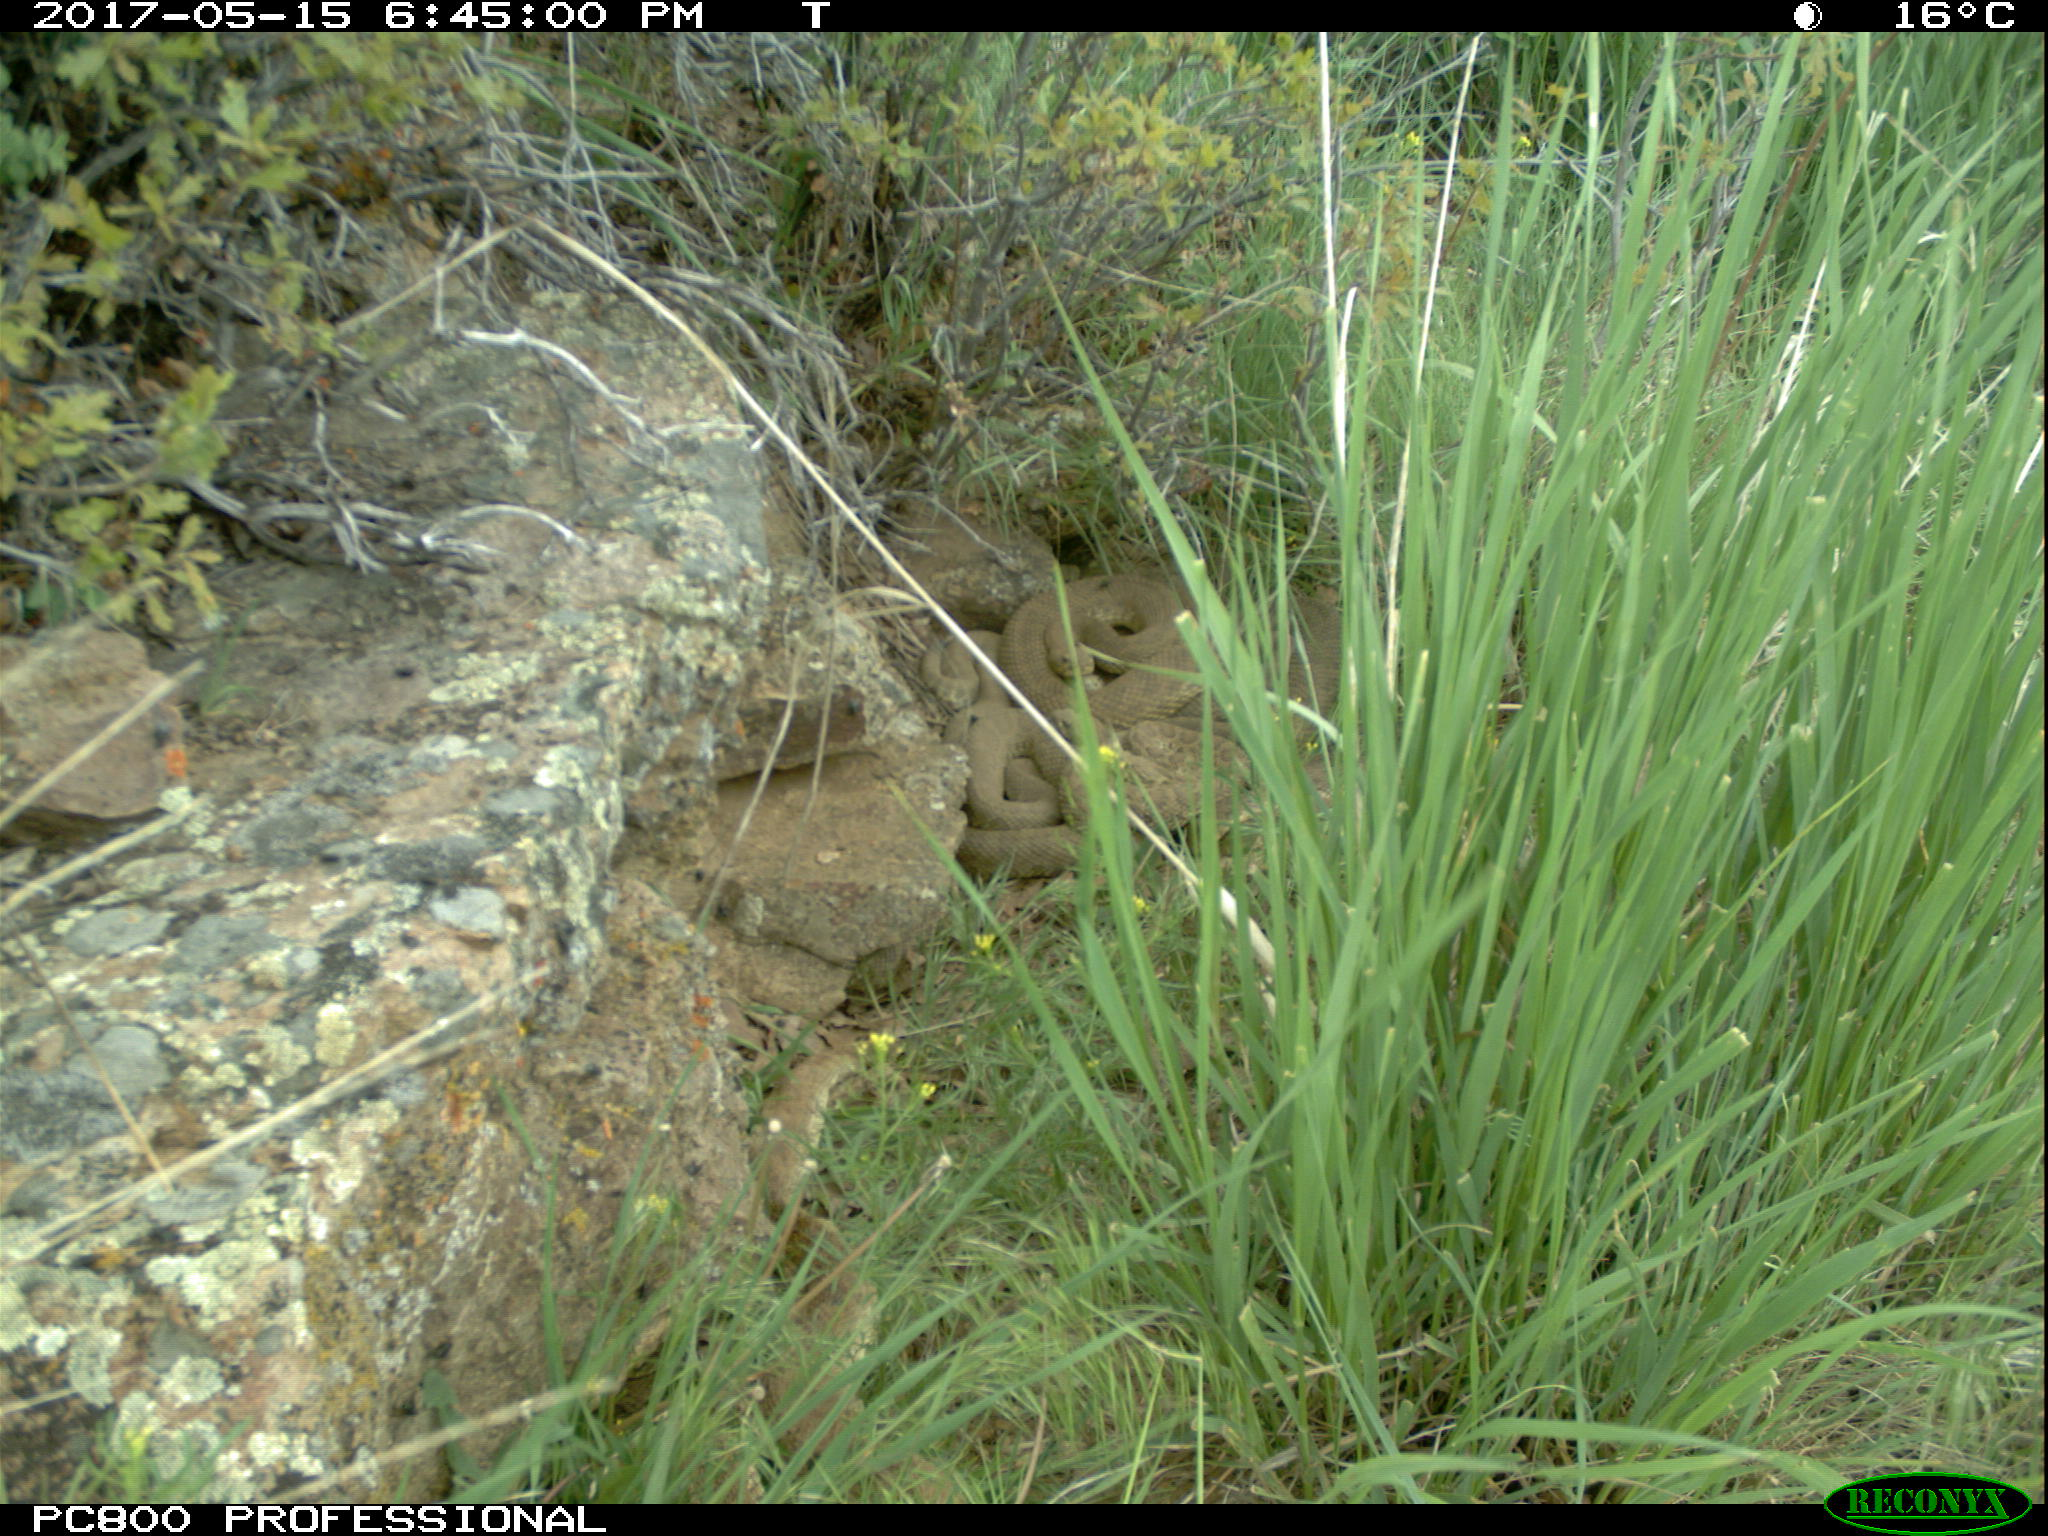snake: (755, 1042, 877, 1394), (997, 573, 1208, 728), (939, 705, 1084, 871), (1050, 720, 1256, 831), (914, 632, 1014, 708)
